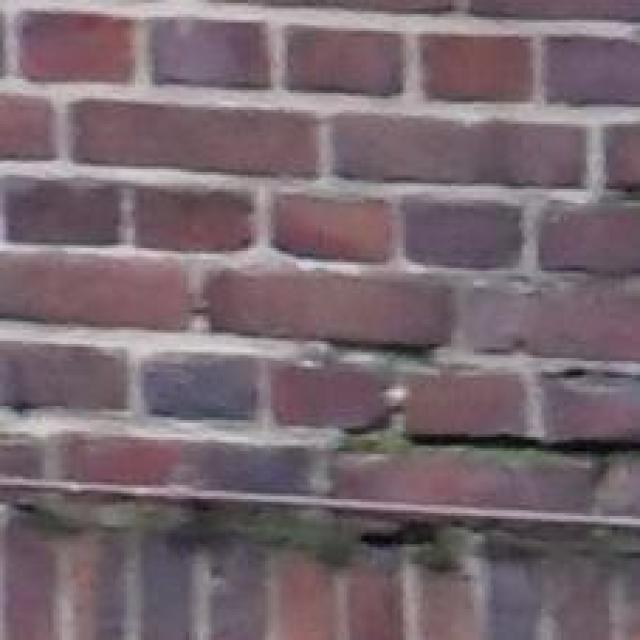Crack: (296, 290, 640, 629)
